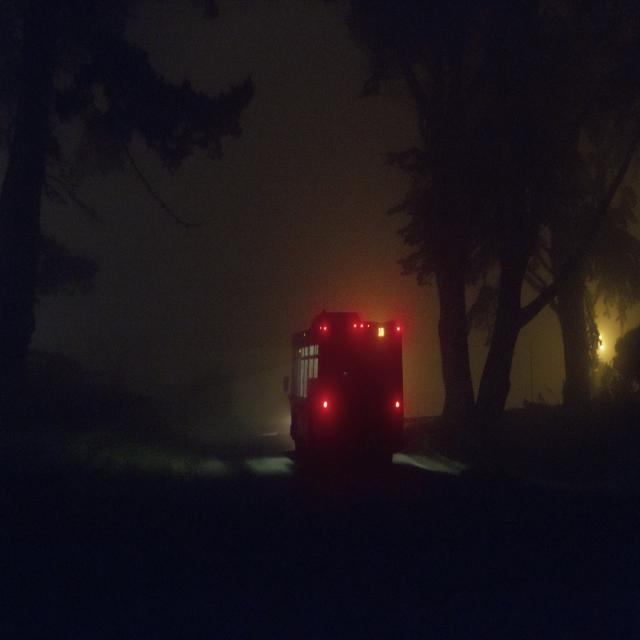Bus: (279, 305, 423, 477)
